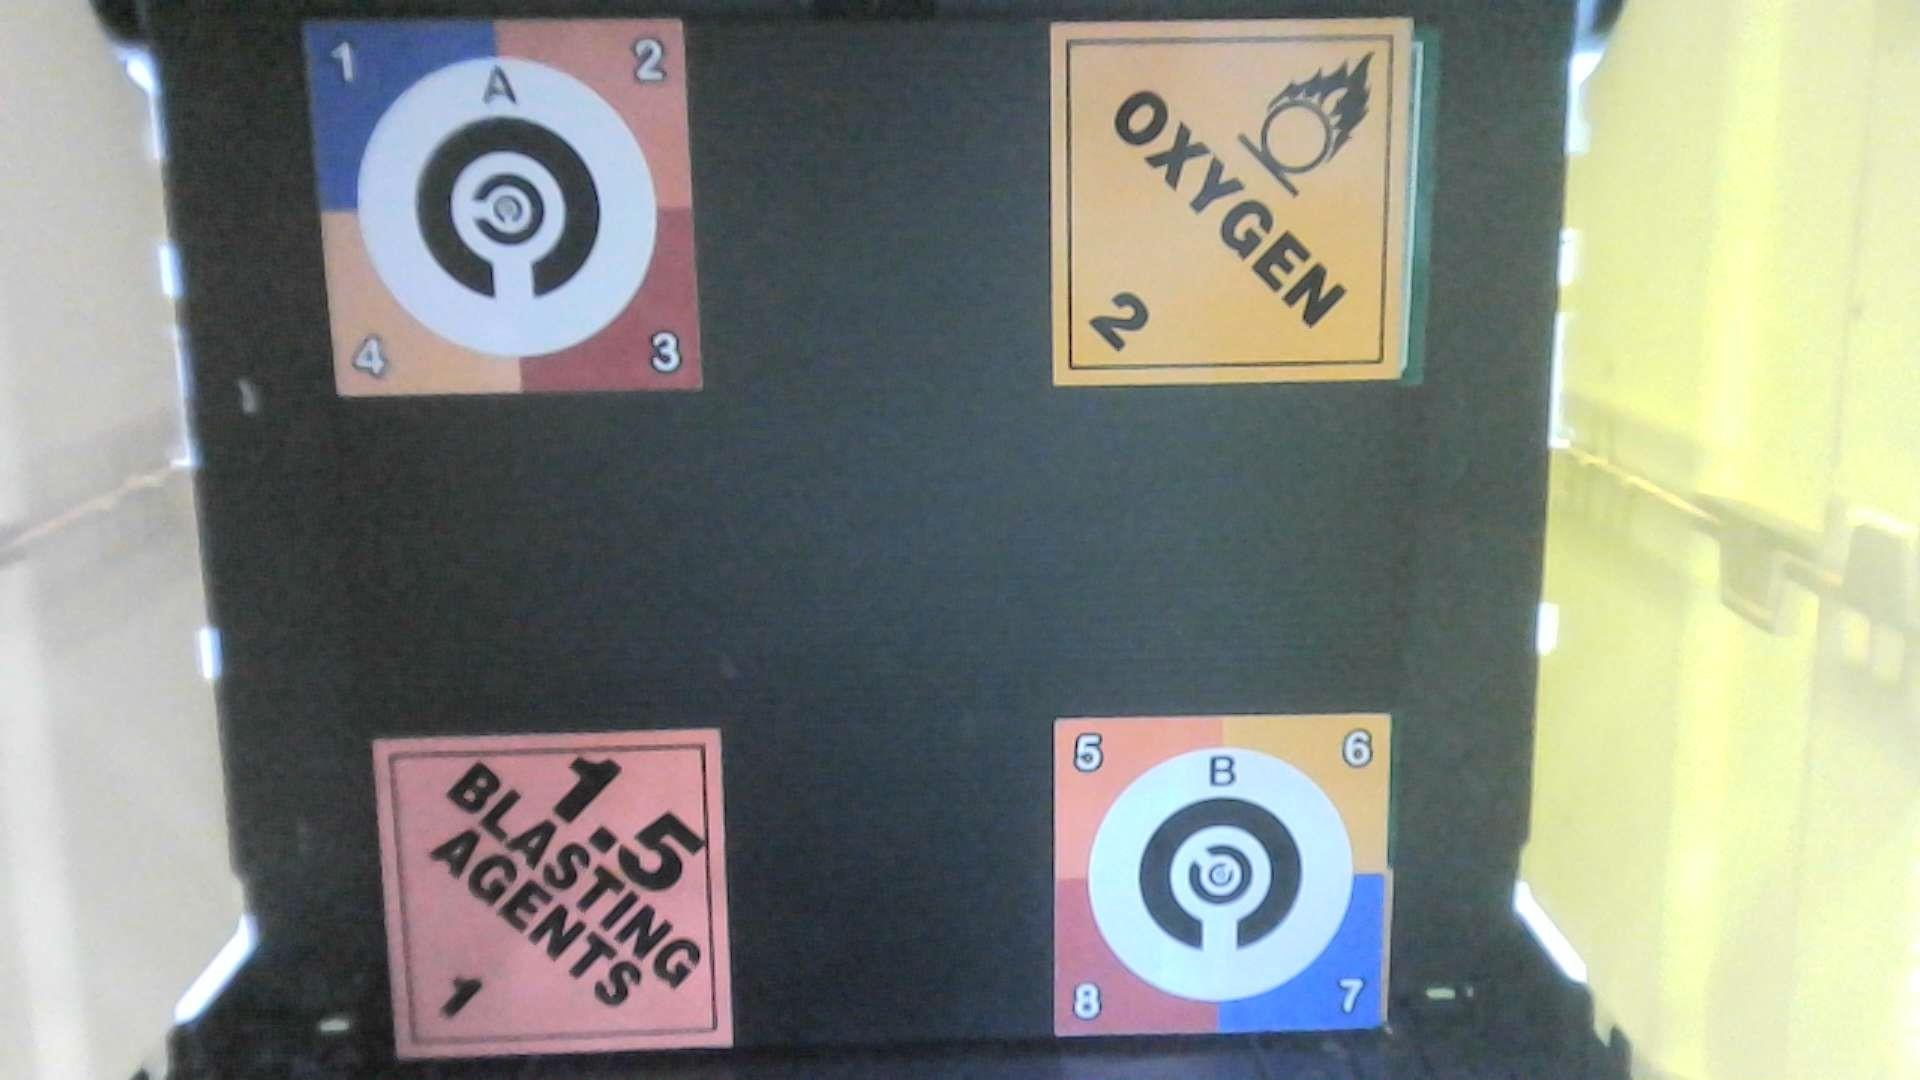explosive: (347, 719, 766, 1058)
oxidizer: (1044, 9, 1433, 396)
